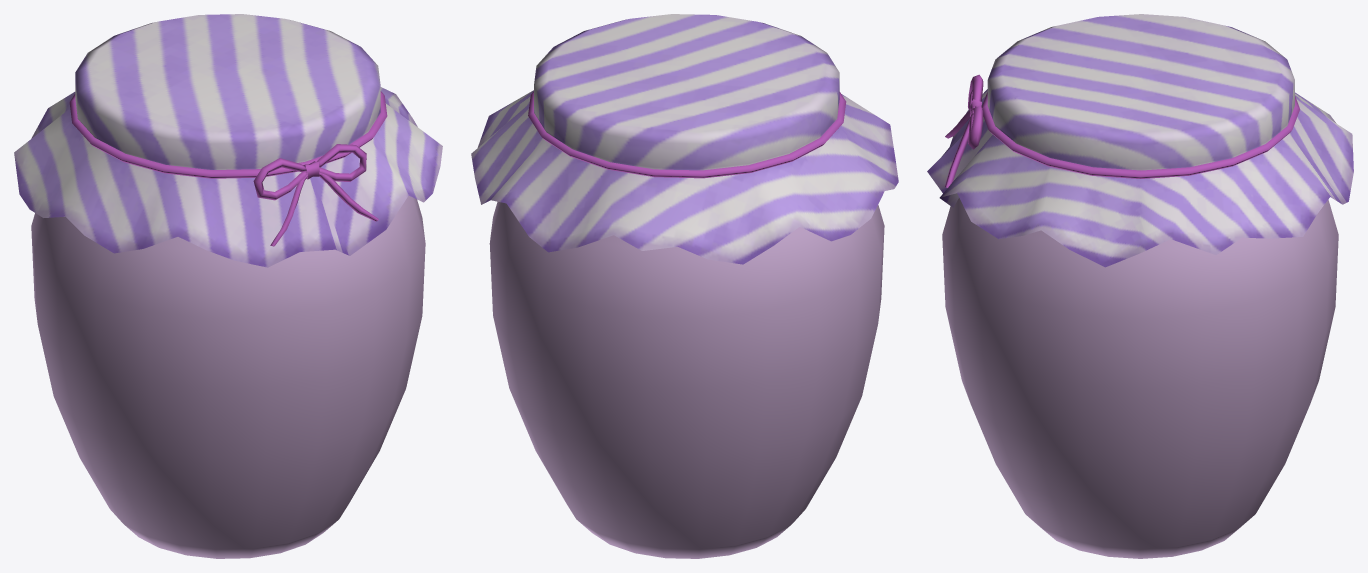
File: pi_berryjam04.gltf
3 views of the same model, side by side, from view 1: azimuth 30°, elevation 25°; view 2: azimuth 150°, elevation 25°; view 3: azimuth 270°, elevation 25° (orthographic).
Parts seen in each view (by area): view 1: pi_berryjam04_bottle_outside01_mesh_shape:pi_berryjam04_glas, um_pi_berryjam04_model_pi_berryjam04_modelShape:pi_berryjam0; view 2: pi_berryjam04_bottle_outside01_mesh_shape:pi_berryjam04_glas, um_pi_berryjam04_model_pi_berryjam04_modelShape:pi_berryjam0; view 3: pi_berryjam04_bottle_outside01_mesh_shape:pi_berryjam04_glas, um_pi_berryjam04_model_pi_berryjam04_modelShape:pi_berryjam0.
Boxes of the visible parts, x1,y1,x2,y2 form: pi_berryjam04_bottle_outside01_mesh_shape:pi_berryjam04_glas: [31, 196, 425, 558]; um_pi_berryjam04_model_pi_berryjam04_modelShape:pi_berryjam0: [14, 14, 442, 267]; pi_berryjam04_bottle_outside01_mesh_shape:pi_berryjam04_glas: [489, 201, 884, 558]; um_pi_berryjam04_model_pi_berryjam04_modelShape:pi_berryjam0: [471, 14, 898, 264]; pi_berryjam04_bottle_outside01_mesh_shape:pi_berryjam04_glas: [942, 198, 1338, 558]; um_pi_berryjam04_model_pi_berryjam04_modelShape:pi_berryjam0: [927, 14, 1353, 267].
Bounding box in the file's own units: 0.1037 × 0.1188 × 0.1039.
4 materials, 4 textured.
